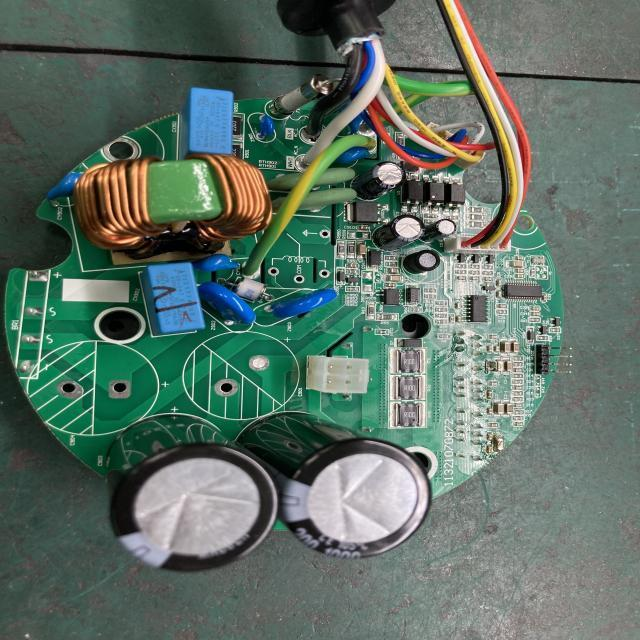damged: (486, 360, 496, 370)
